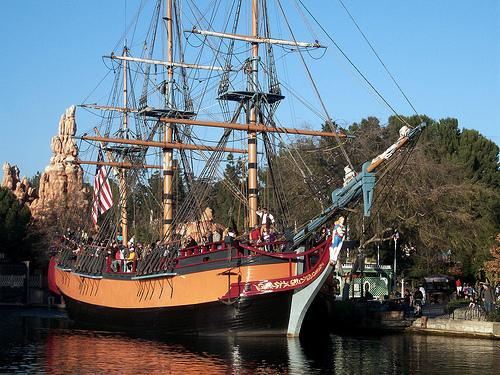Ship: (47, 1, 426, 341)
